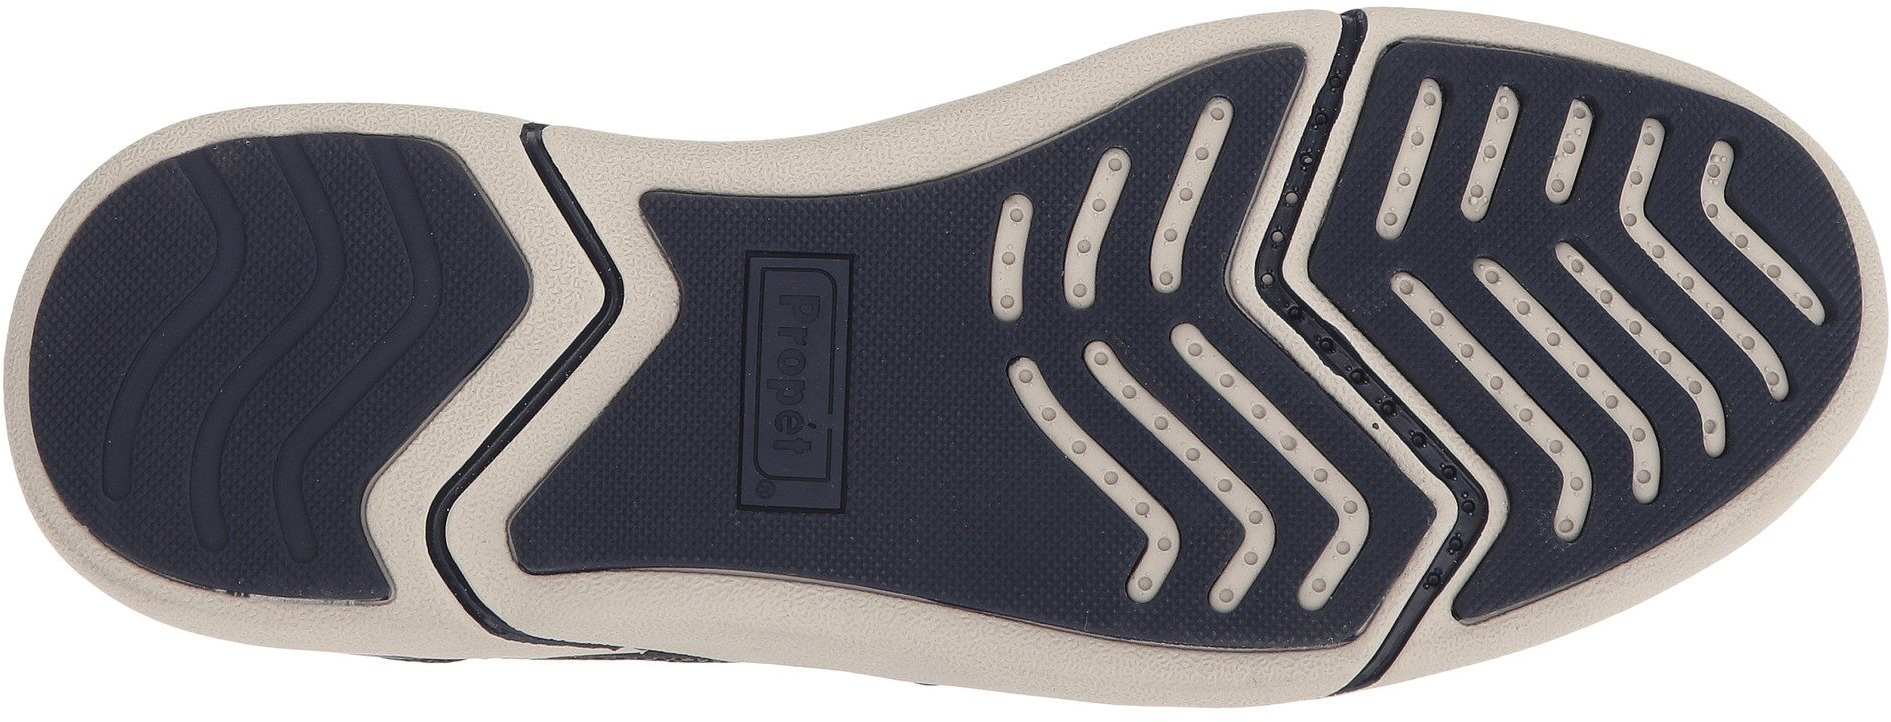chevron: (1050, 80, 1618, 622), (1135, 145, 1574, 614), (355, 147, 724, 442), (63, 196, 402, 495), (1582, 80, 1776, 303)
circle: (1135, 145, 1574, 614), (1582, 80, 1776, 303)
line: (1135, 145, 1574, 614), (355, 147, 724, 442)
other: (917, 448, 1076, 601)
quad: (645, 246, 939, 538)
ribbon: (1274, 24, 1409, 152)
text: (645, 246, 939, 538), (759, 287, 831, 354), (759, 407, 827, 472), (763, 350, 829, 412)
